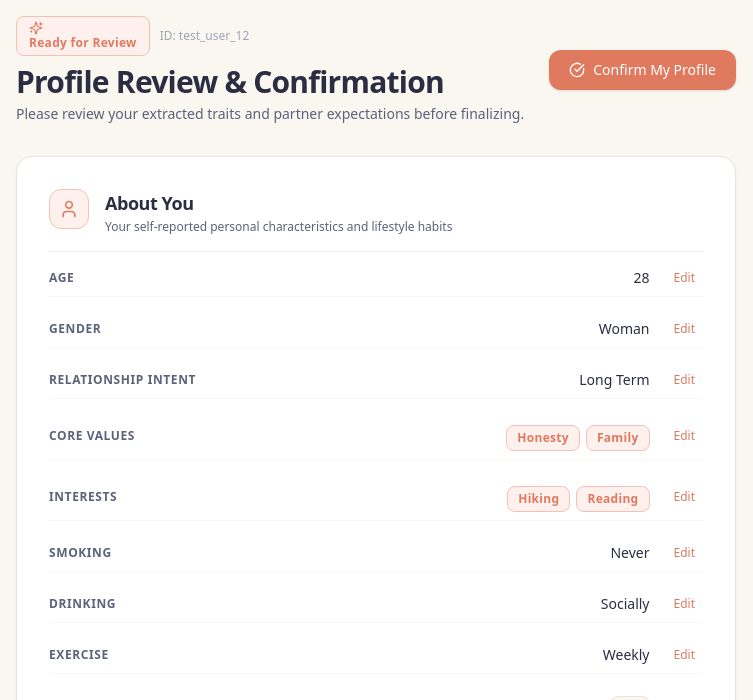
ProfileReviewPage Component › 5. handles confirmation POST success and verifies persistence
Click the button "Confirm My Profile": (643, 70) [549,50,736,90]
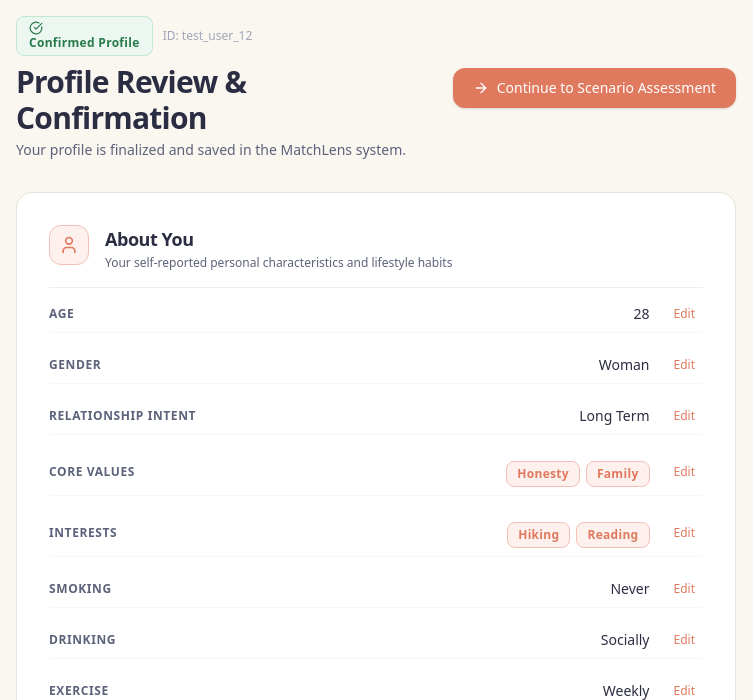
Check: the text "Confirmed Profile" is shown, box [29,21,140,51]
Check: the button "Continue to Scenario Assessment" is shown, box [453,68,736,108]
